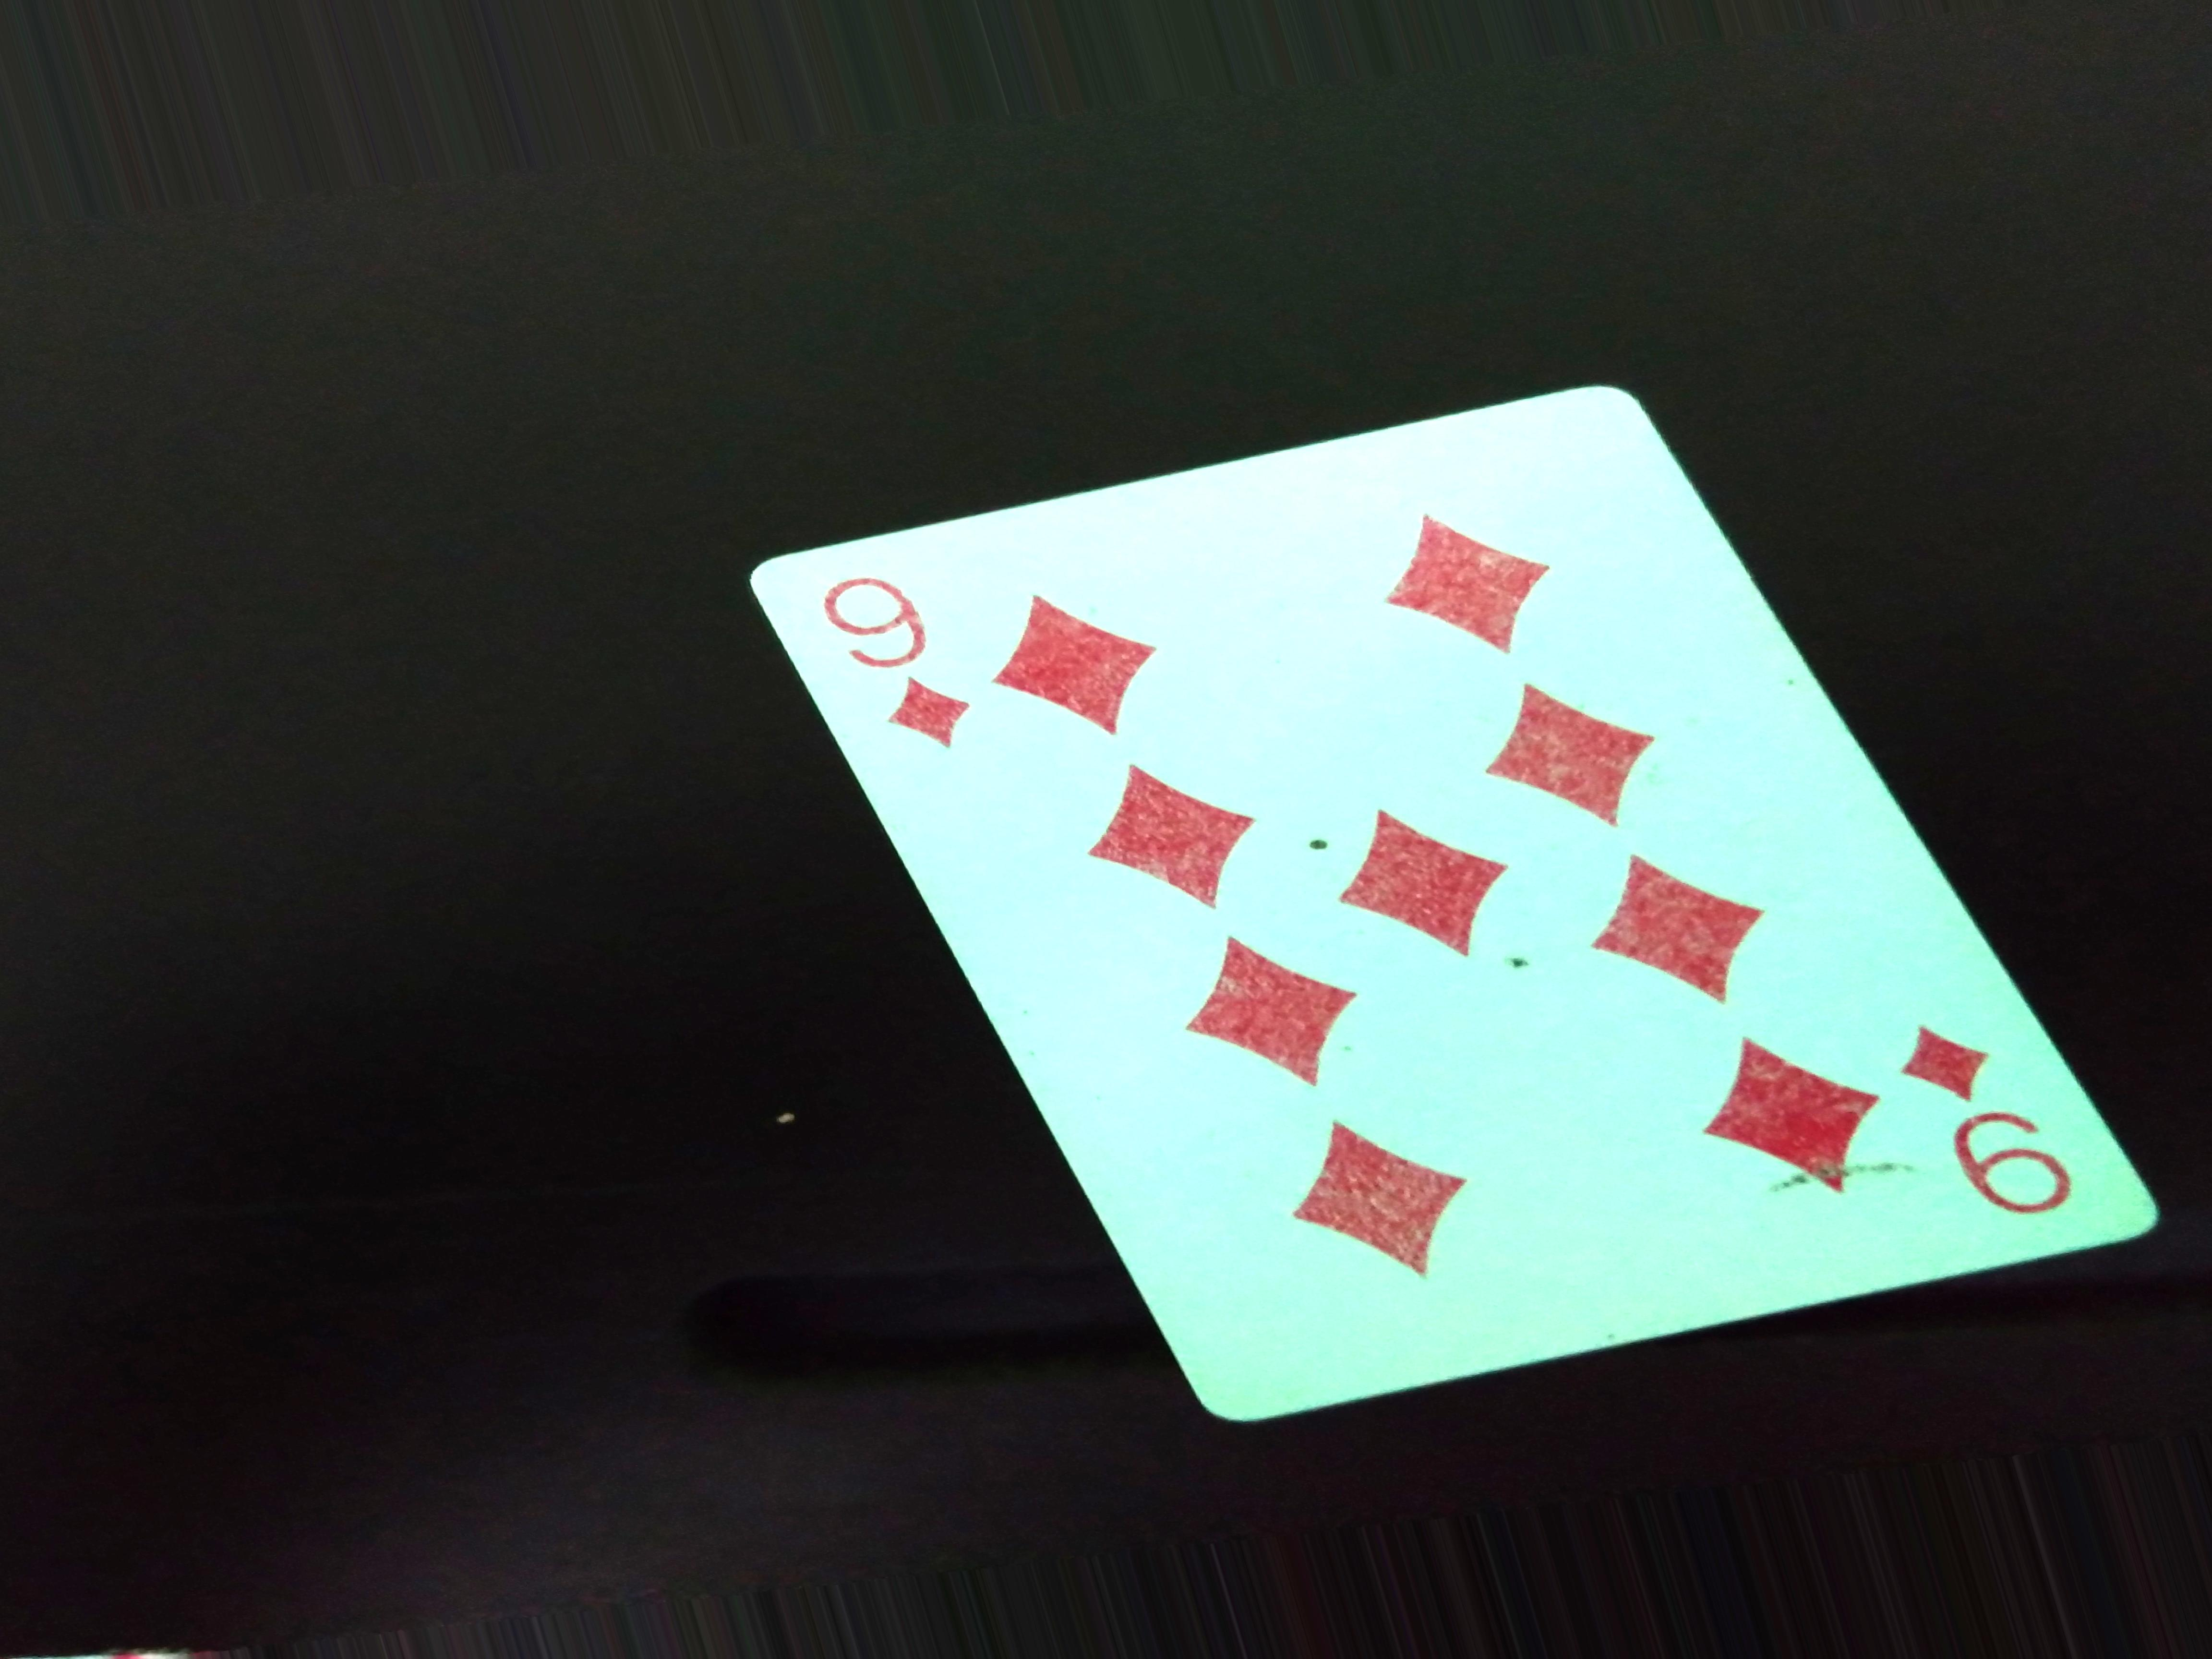9D: (1883, 1012, 2101, 1258)
